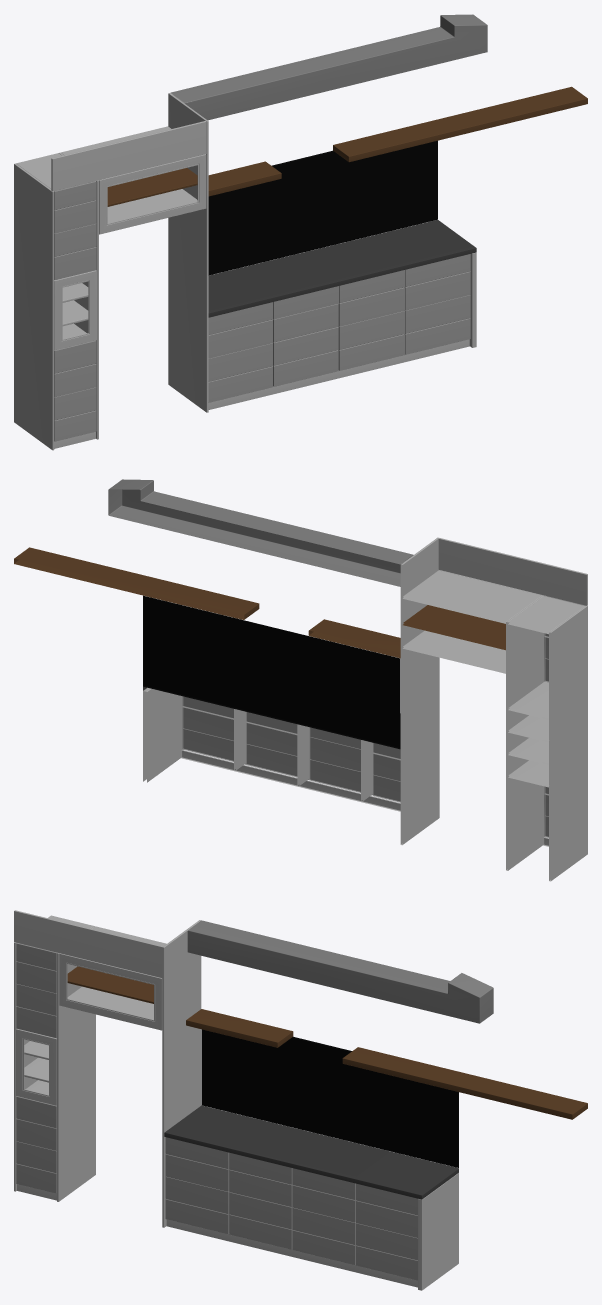
Rendered from KitchenF.FBX.
3 views of the same model, one above another, from view 1: azimuth 30°, elevation 25°; view 2: azimuth 150°, elevation 25°; view 3: azimuth 330°, elevation 25° (orthographic). The views are drawn at different scales.
Parts seen in each view (by area): view 1: KitchenF02, KitchenF01; view 2: KitchenF02, KitchenF01; view 3: KitchenF02, KitchenF01.
Boxes of the visible parts, x1,y1,x2,y2 form: KitchenF02: [170, 14, 587, 409]; KitchenF01: [14, 93, 208, 450]; KitchenF02: [14, 479, 413, 811]; KitchenF01: [400, 537, 587, 881]; KitchenF02: [164, 920, 587, 1290]; KitchenF01: [14, 910, 201, 1227].
Bounding box in the file's own units: 500 × 60 × 259.
